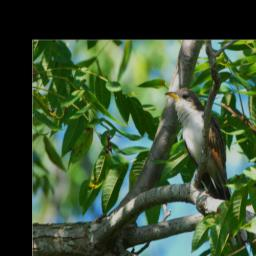Cuckoo: (165, 87, 231, 200)
